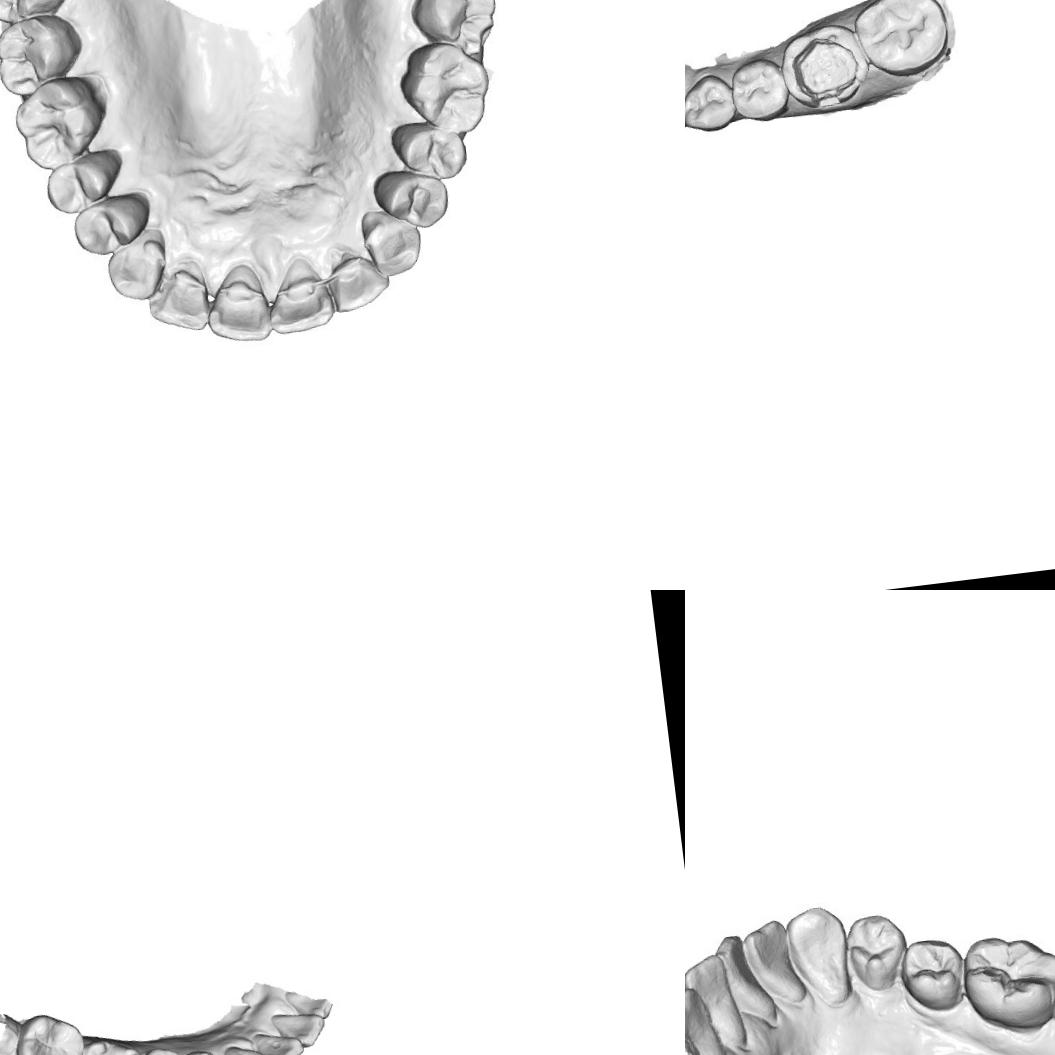canine: (784, 904, 855, 1008), (105, 229, 168, 300), (363, 210, 421, 278), (219, 1039, 274, 1055)
incisor: (198, 254, 284, 354), (263, 248, 342, 346), (685, 954, 753, 1055), (745, 917, 813, 1012), (142, 257, 216, 339), (713, 932, 778, 1024), (328, 241, 393, 310), (267, 1007, 330, 1053), (284, 983, 334, 1023), (252, 1027, 308, 1055)
inlay: (786, 30, 861, 110)
molar: (12, 68, 110, 170), (398, 34, 493, 136), (961, 931, 1055, 1027), (851, 0, 954, 82), (0, 10, 86, 97), (413, 0, 502, 58), (9, 1006, 91, 1055), (65, 1033, 152, 1055), (0, 0, 72, 25)
premolar: (897, 934, 972, 1014), (372, 165, 454, 236), (391, 116, 471, 182), (74, 191, 152, 257), (840, 914, 905, 989), (47, 150, 124, 213), (727, 55, 792, 122), (685, 71, 738, 135), (139, 1042, 186, 1055)
